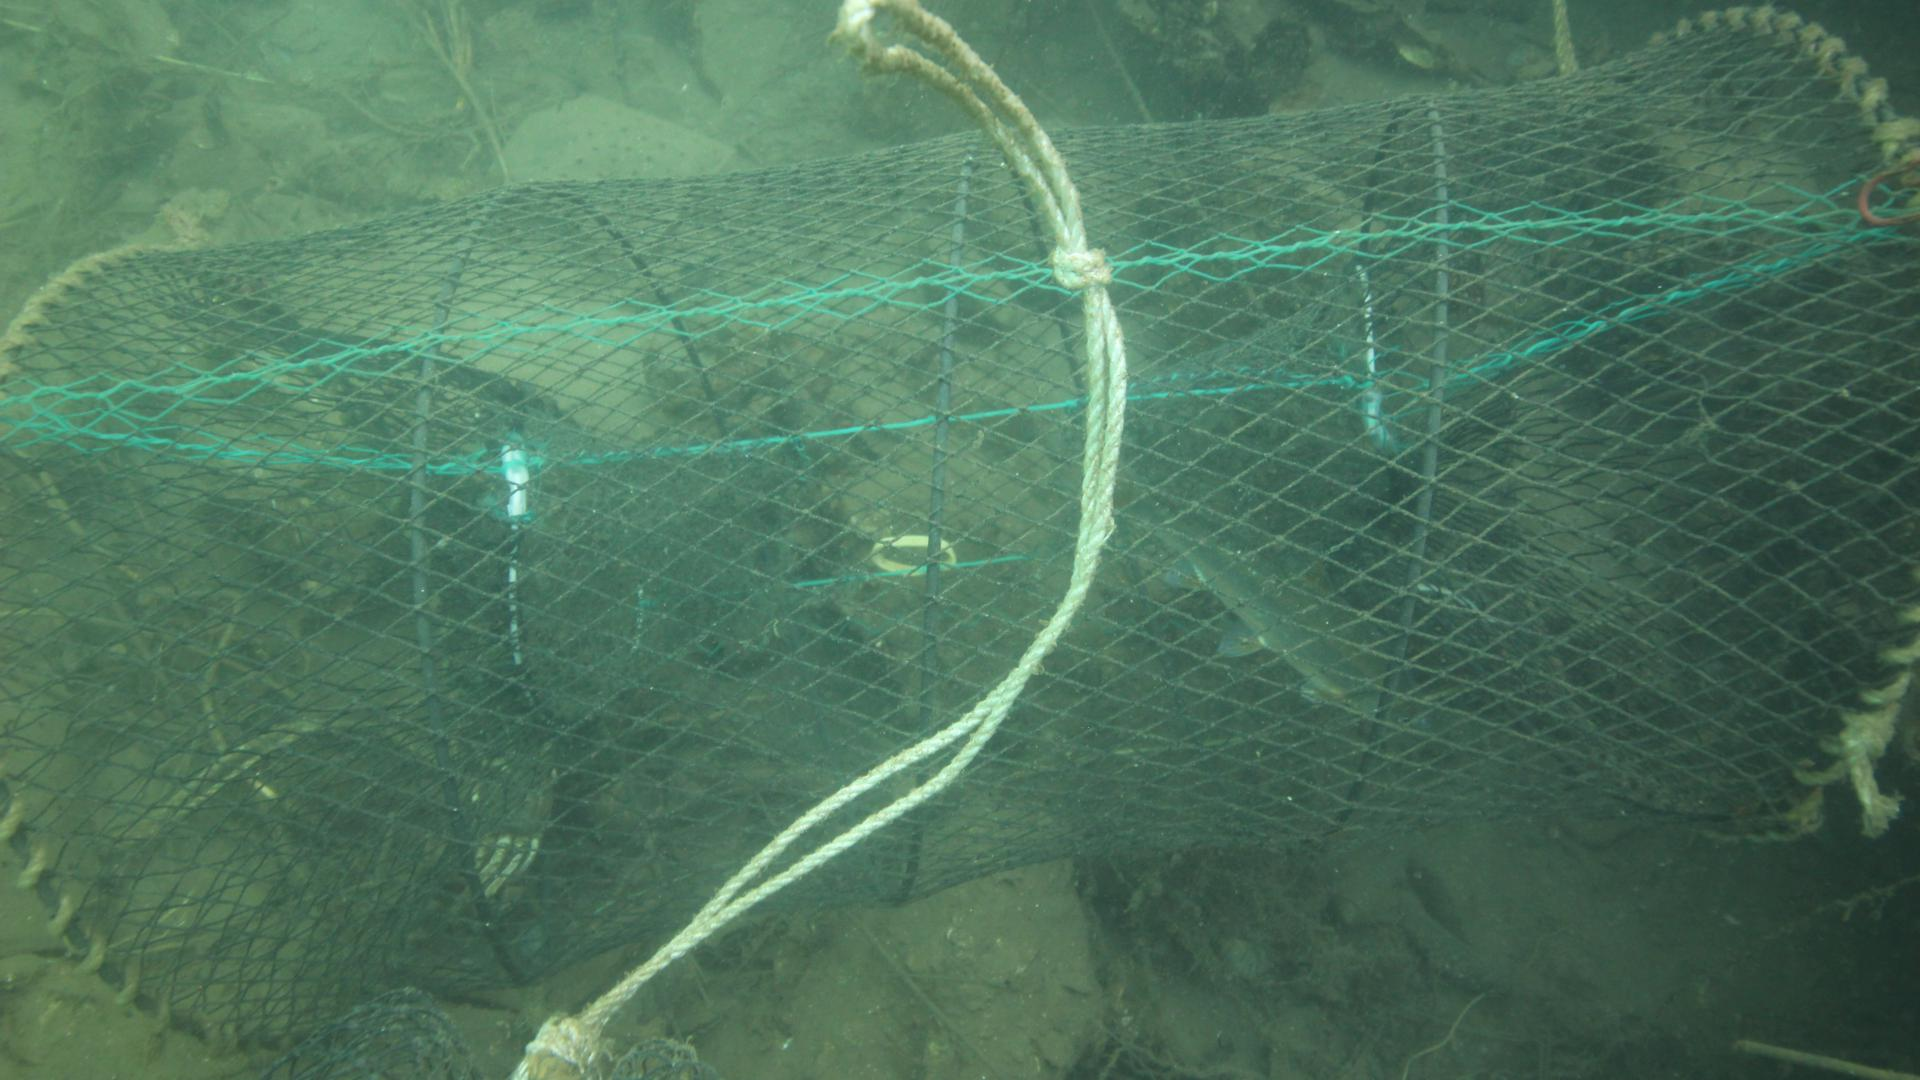rope: (460, 0, 1153, 1062)
spring fish trap: (0, 1, 1920, 1062)
